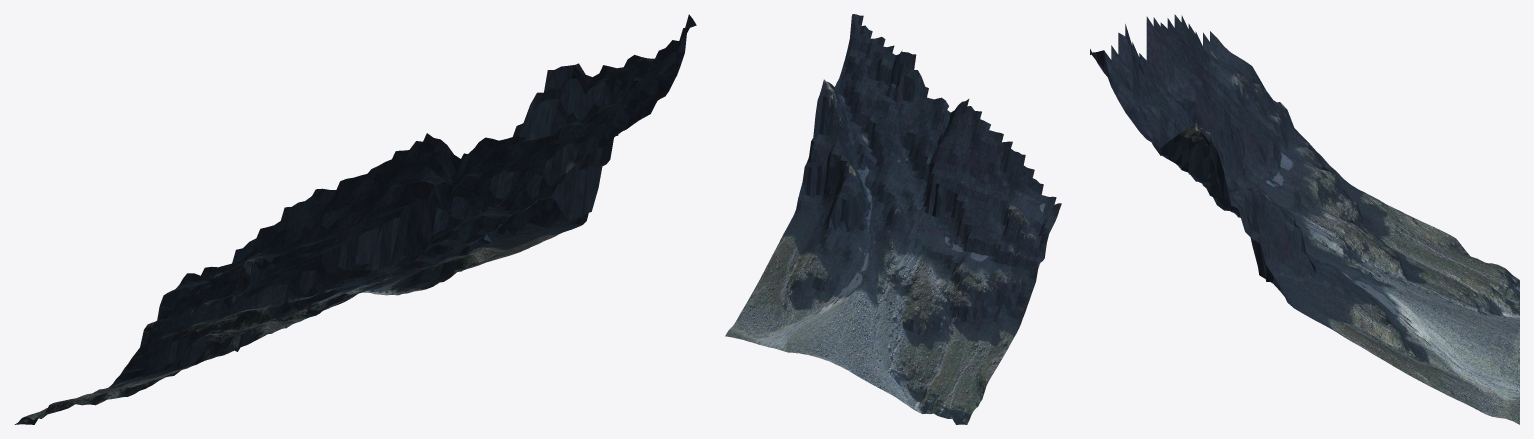
The model's file is Silv_tile_19.gltf.
3 views of the same model, side by side, from view 1: azimuth 30°, elevation 25°; view 2: azimuth 150°, elevation 25°; view 3: azimuth 270°, elevation 25° (orthographic). The views are drawn at different scales.
Visible parts, largest first — view 1: 18.004; view 2: 18.004; view 3: 18.004.
Boxes of the visible parts, x1=… form: 18.004: x1=14, y1=14, x2=696, y2=424; 18.004: x1=725, y1=14, x2=1061, y2=424; 18.004: x1=1090, y1=14, x2=1519, y2=424.
Size of the model in its own units: 0.5078 by 0.5236 by 0.4766.
Materials: 1 (1 with a texture image).
